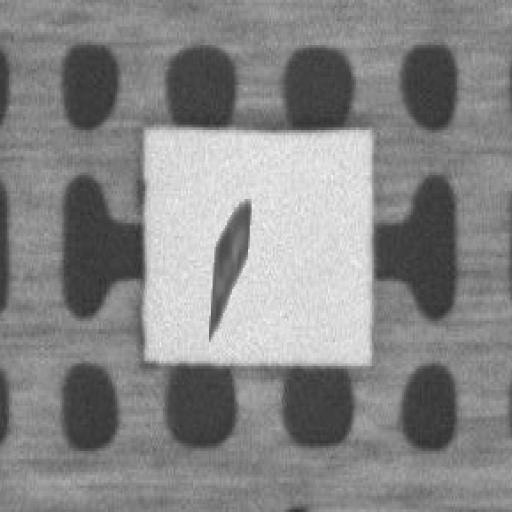DIE_INK: (305, 124, 377, 232)
